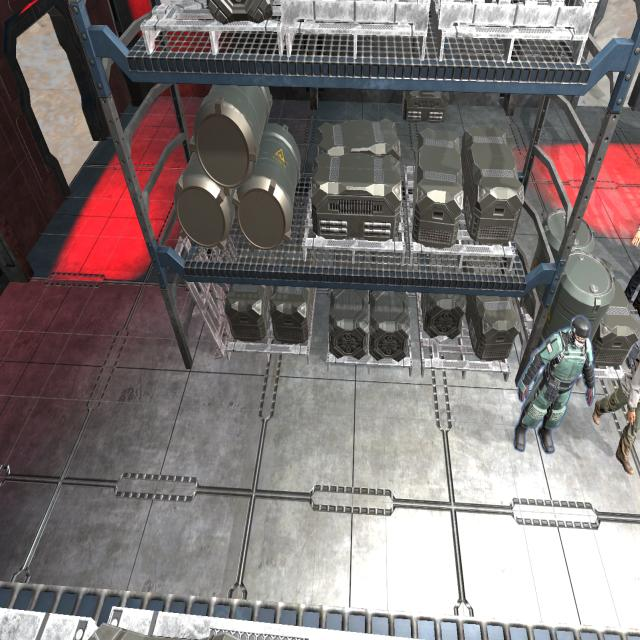thiefs: (596, 335, 637, 482)
